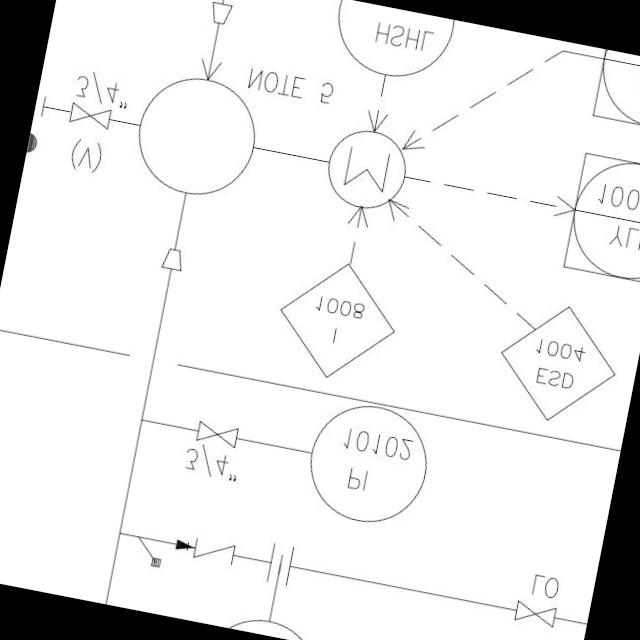GV: (506, 594, 566, 634), (190, 416, 248, 454), (60, 98, 116, 133)
M: (318, 121, 416, 219)
SP: (154, 241, 188, 275), (204, 0, 236, 31)
